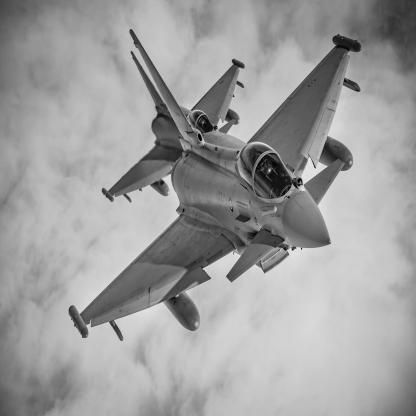EF2000: (69, 30, 363, 342), (103, 52, 246, 203)
